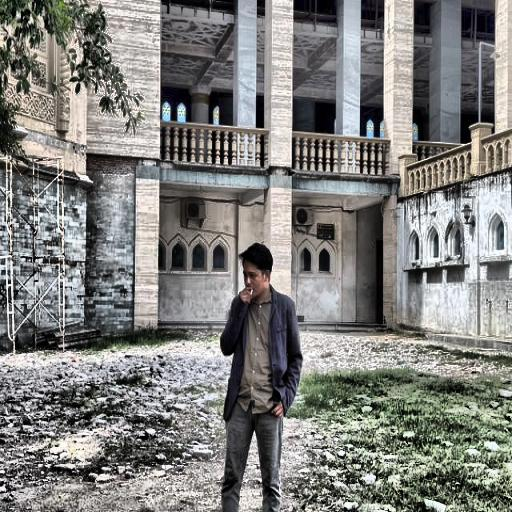Merokok: (239, 259, 270, 302)
